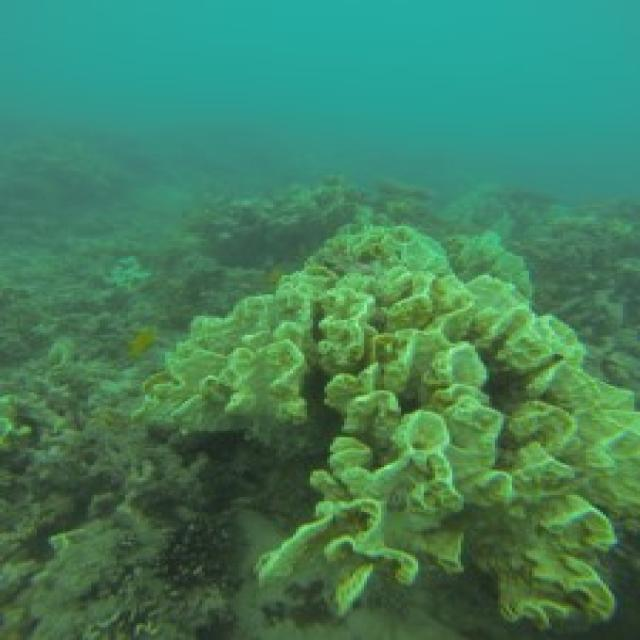Bleached: (308, 227, 502, 581), (467, 276, 638, 509), (476, 402, 615, 626), (140, 289, 308, 436), (260, 500, 416, 613)
